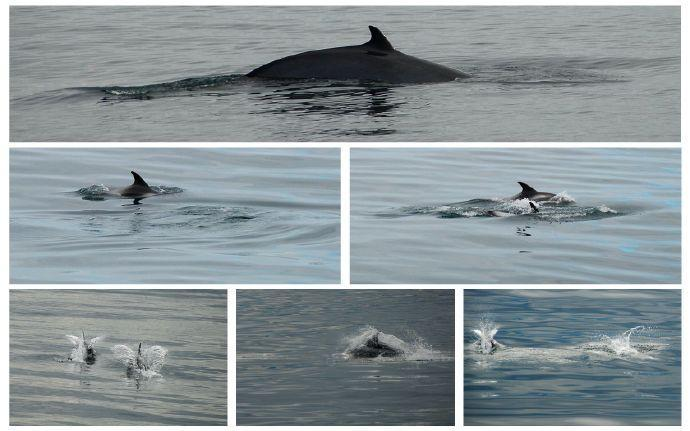fish: (103, 27, 471, 111)
